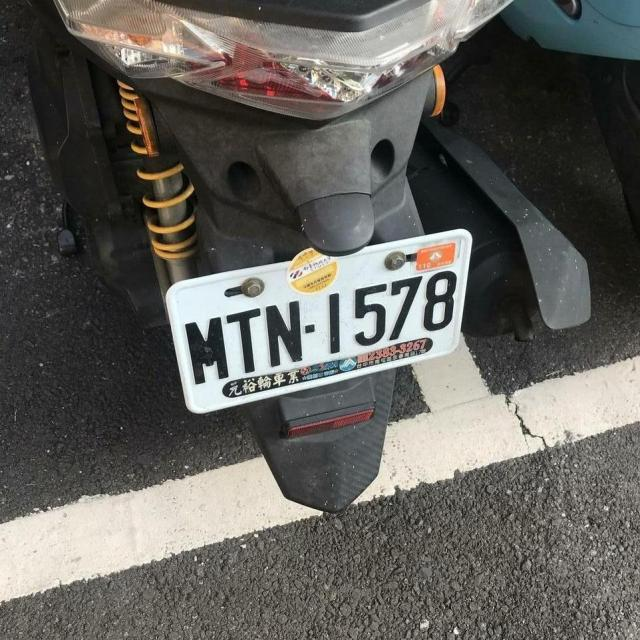W: (158, 228, 481, 409)
